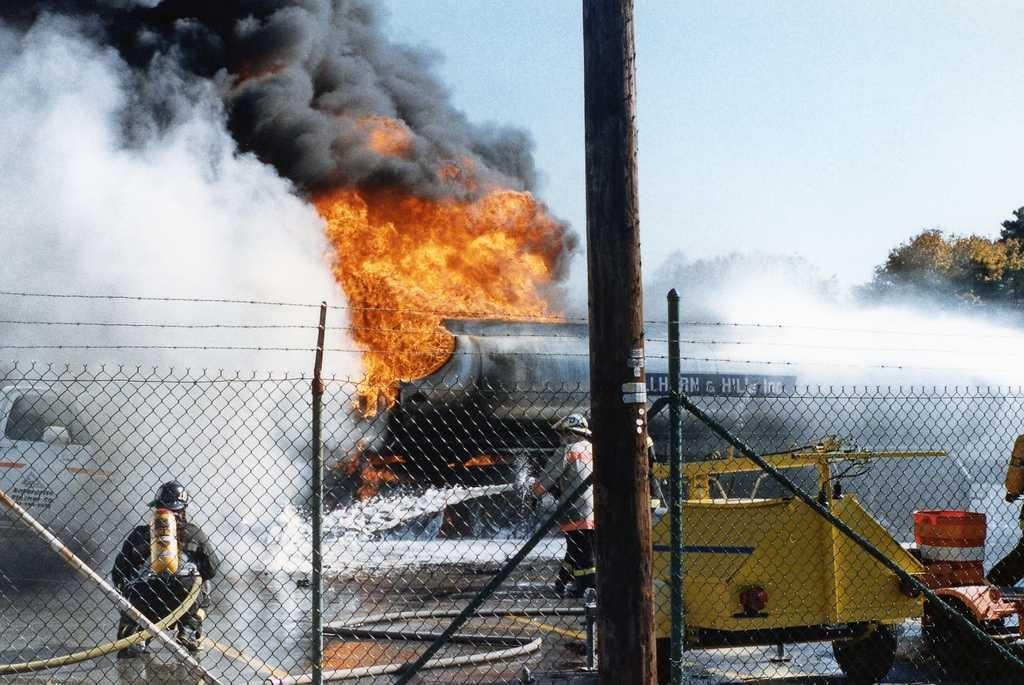fire: (353, 203, 535, 318), (368, 325, 442, 380)
smoke: (50, 128, 292, 298), (225, 3, 400, 127)
